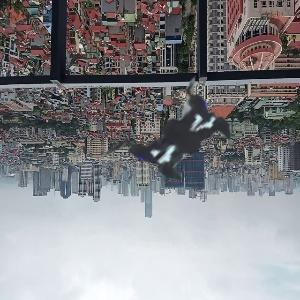drone: (56, 12, 297, 253)
